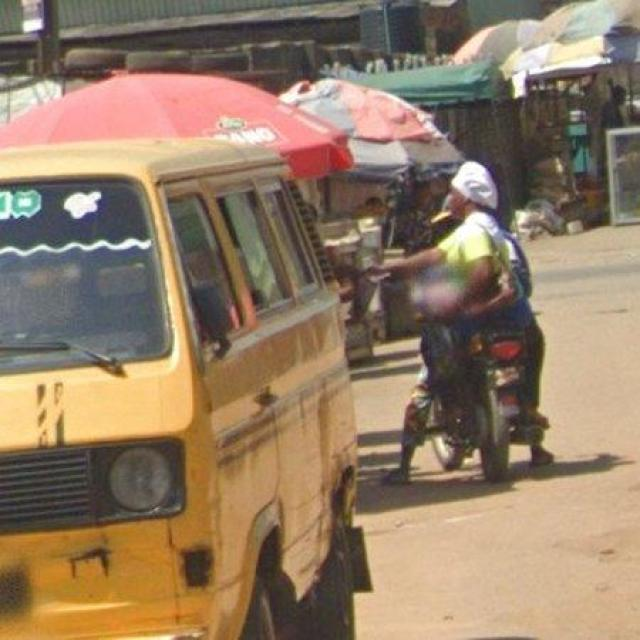Taxi: (0, 139, 358, 639)
